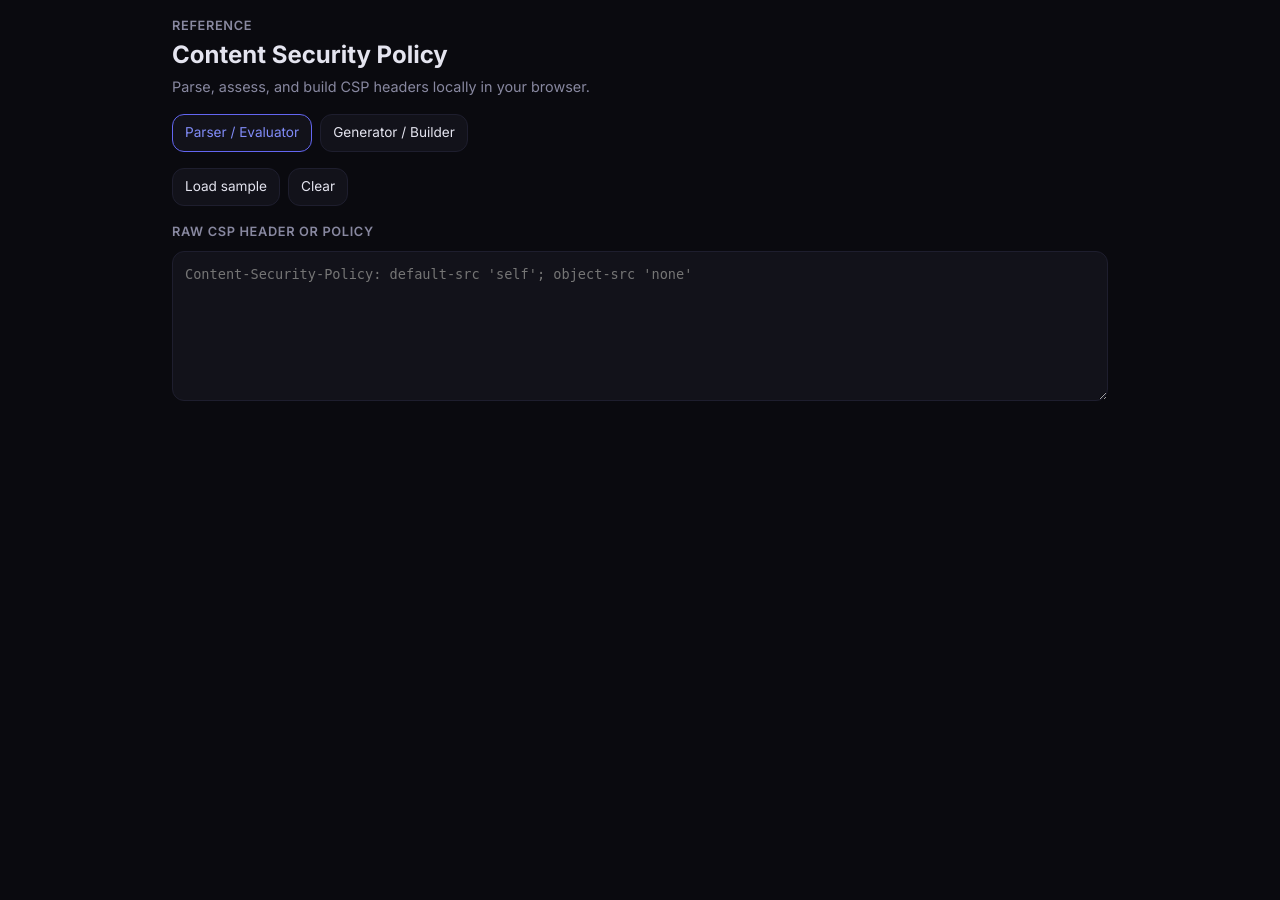
it: CspTool › exposes alert, status, and labeled controls for accessibility
Replace the text in the text box named "Raw CSP header input" with "script-src 'unclosed" at (640, 326), box top-left (172, 251), bottom-right (1108, 401)
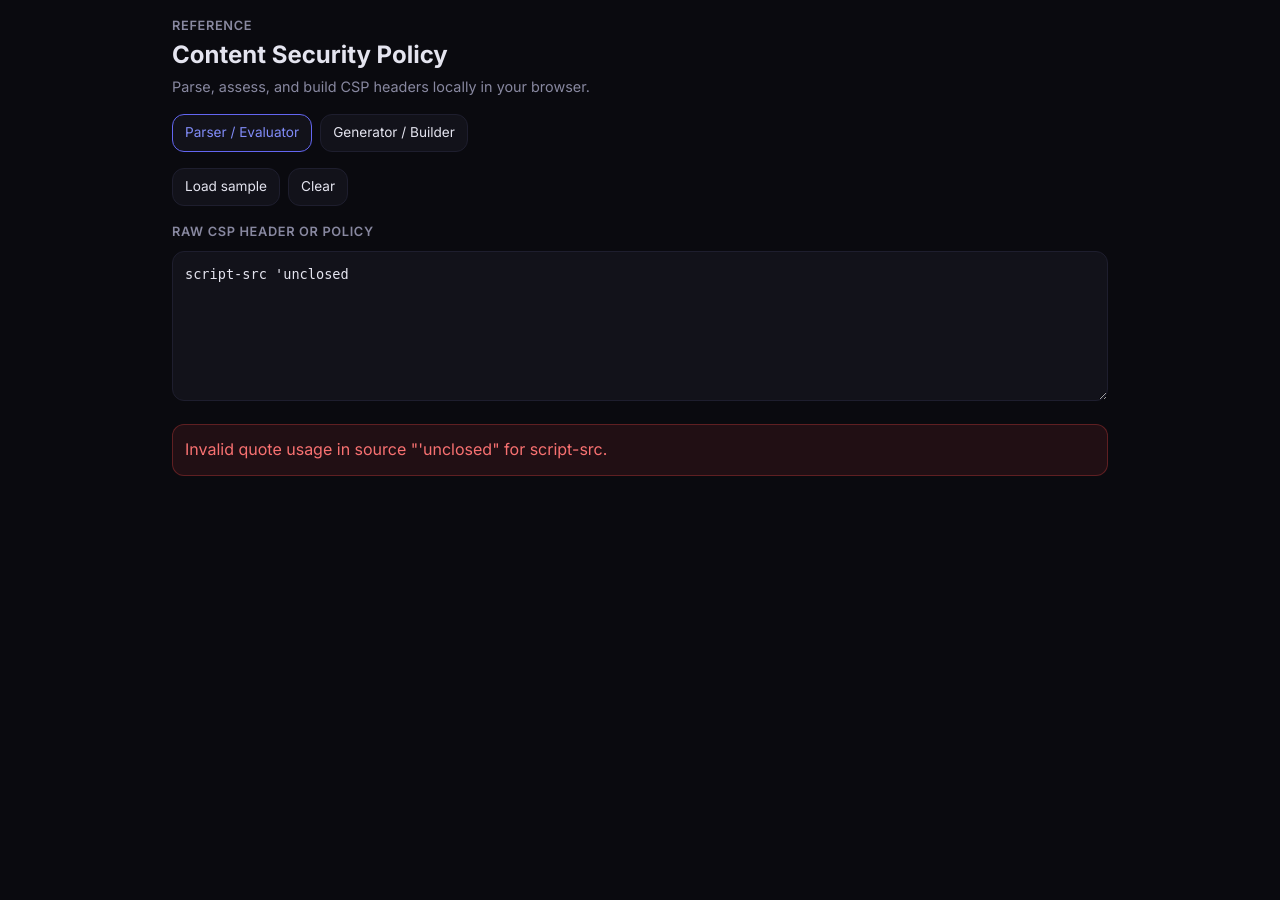
Expected: the message shows "Invalid quote usage", top-left (185, 439), bottom-right (607, 459)
Click the tab "Generator / Builder".
click(394, 133)  # box top-left (320, 114), bottom-right (468, 152)
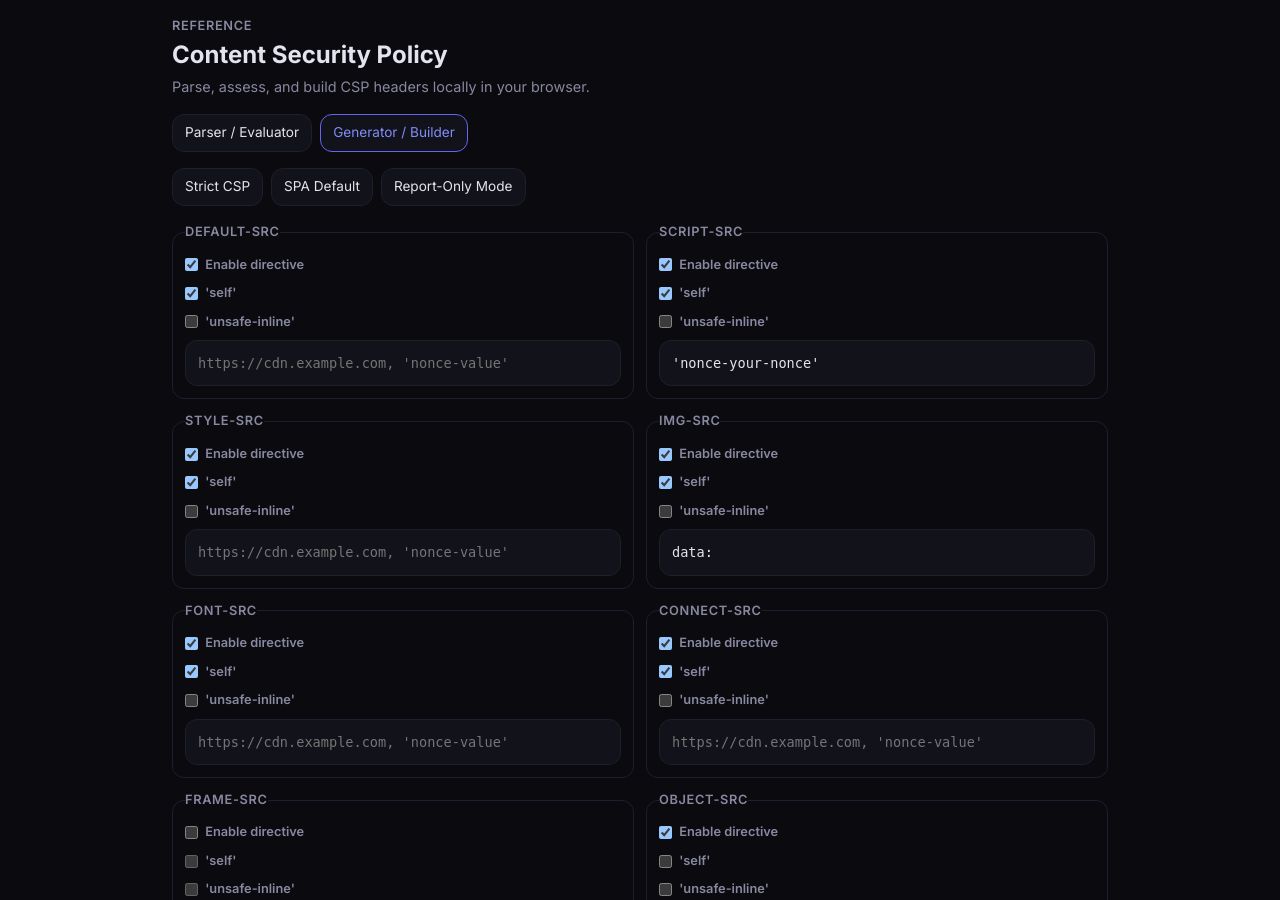
Expected: the checkbox named "Enable script-src" is shown, top-left (659, 258), bottom-right (672, 271)
Expected: the field named "Custom sources, hashes, or nonces for script-src" is shown, top-left (659, 340), bottom-right (1095, 386)
